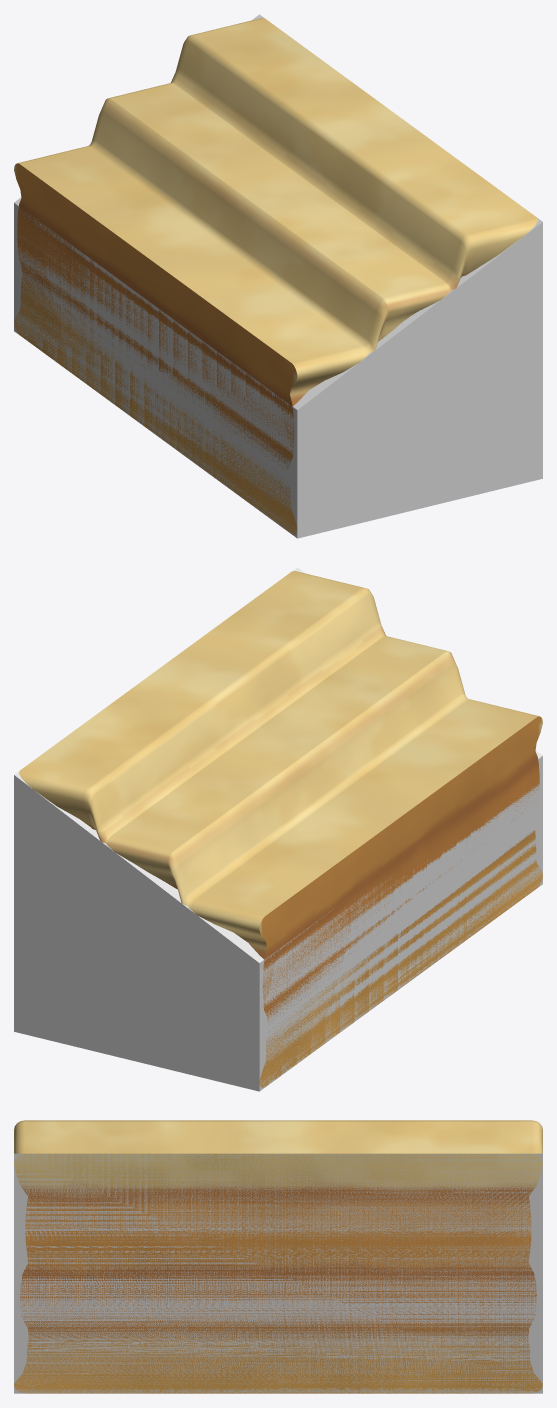
Rendered from SD_G06_Ground_Stair.fbx.
3 views of the same model, one above another, from view 1: azimuth 30°, elevation 25°; view 2: azimuth 150°, elevation 25°; view 3: azimuth 270°, elevation 25° (orthographic). The views are drawn at different scales.
Visible parts, largest first — view 1: SD_G06_Ground_Stair, COL_Ramp; view 2: SD_G06_Ground_Stair, COL_Ramp; view 3: SD_G06_Ground_Stair, COL_Ramp.
Part boxes in pixels (x1=…): SD_G06_Ground_Stair: x1=14, y1=18, x2=537, y2=534; COL_Ramp: x1=14, y1=14, x2=542, y2=538; SD_G06_Ground_Stair: x1=19, y1=571, x2=542, y2=1087; COL_Ramp: x1=14, y1=567, x2=542, y2=1091; SD_G06_Ground_Stair: x1=14, y1=1120, x2=542, y2=1393; COL_Ramp: x1=14, y1=1153, x2=542, y2=1393.
Size of the model in its own units: 2 by 2 by 4.
